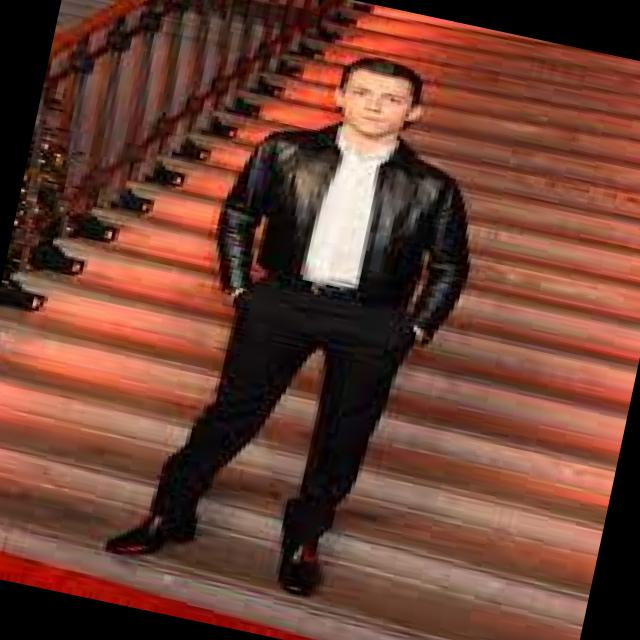Jacket: (160, 97, 524, 399)
